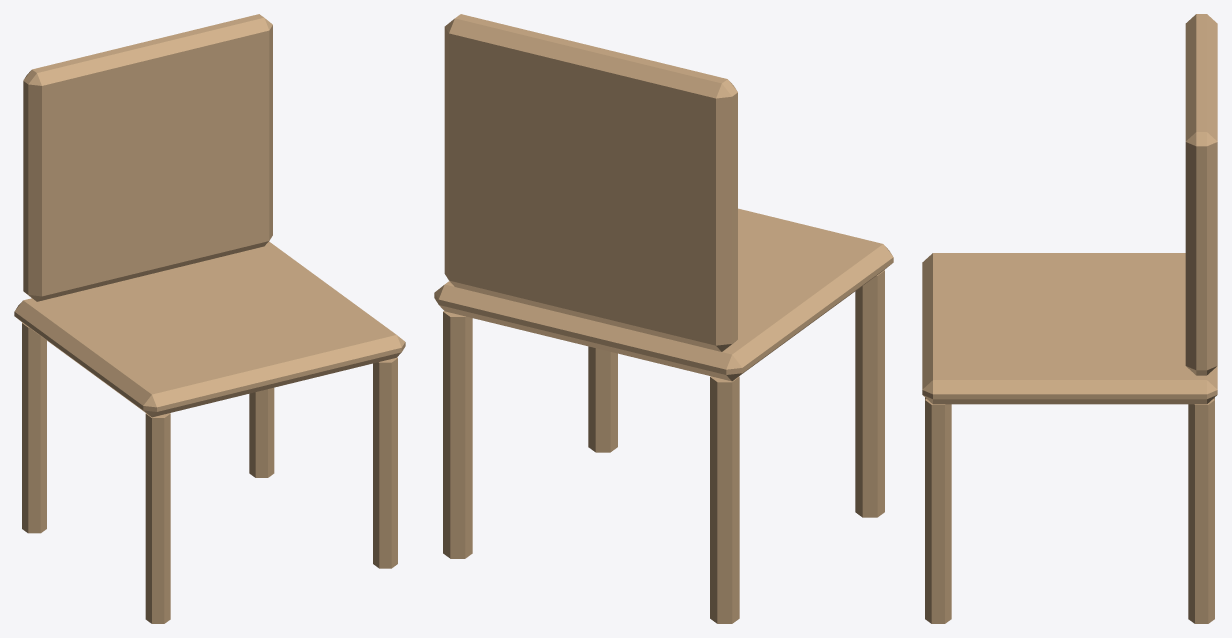
Rendered from cafe-chair.glb.
3 views of the same model, side by side, from view 1: azimuth 30°, elevation 25°; view 2: azimuth 150°, elevation 25°; view 3: azimuth 270°, elevation 25° (orthographic). The views are drawn at different scales.
Visible parts, largest first — view 1: cafe-chair; view 2: cafe-chair; view 3: cafe-chair.
Boxes of the visible parts, x1,y1,x2,y2 form: cafe-chair: [14, 14, 405, 623]; cafe-chair: [434, 14, 893, 623]; cafe-chair: [922, 14, 1217, 623].
Bounding box in the file's own units: 0.6 × 1 × 0.55.
